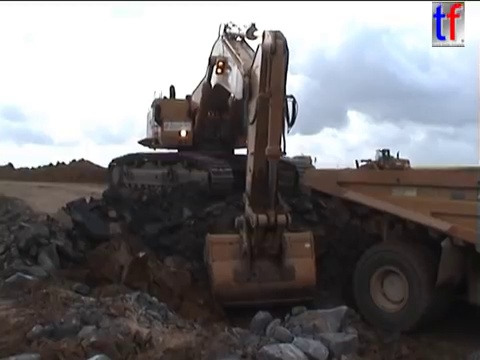excavator: (104, 18, 322, 315)
wheel loader: (298, 164, 480, 337), (338, 147, 414, 181)
